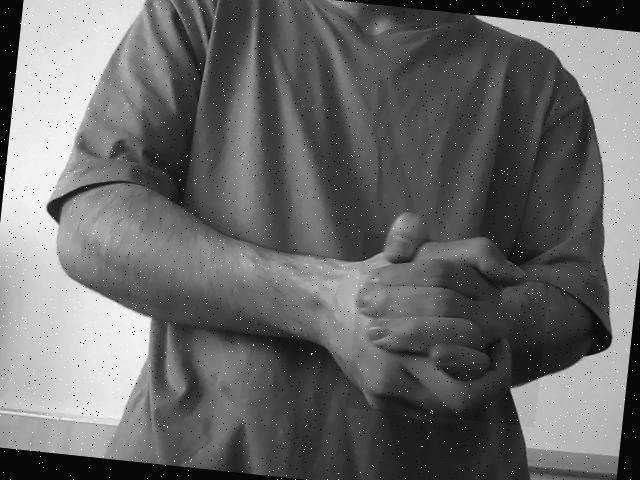friend: (346, 233, 553, 427)
